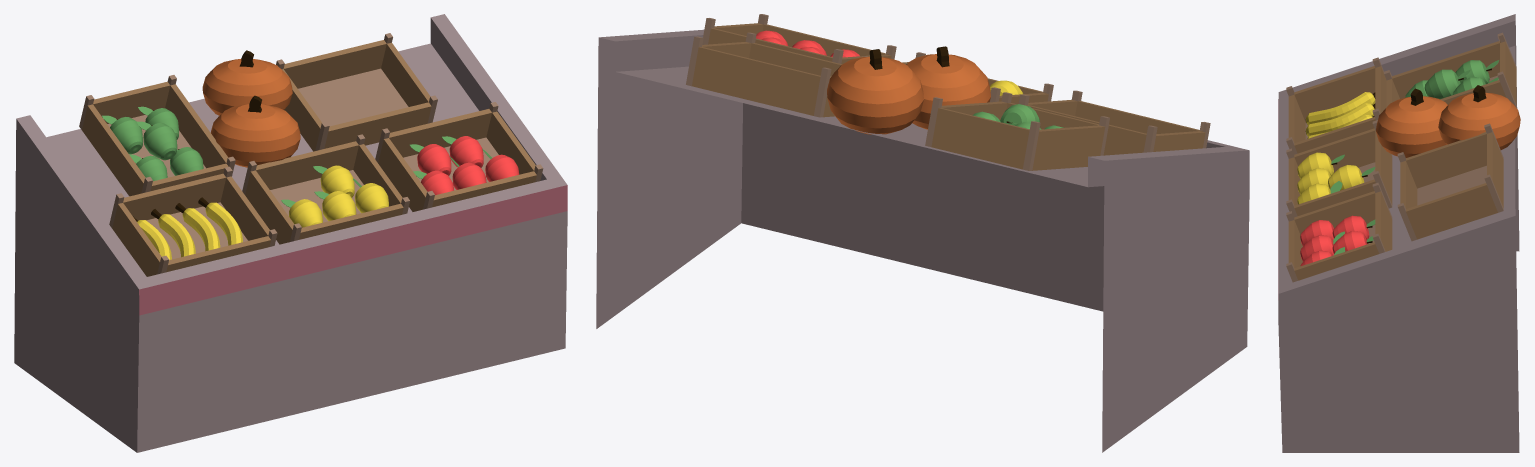
The model's file is Vegetable_shelving.fbx.
3 views of the same model, side by side, from view 1: azimuth 30°, elevation 25°; view 2: azimuth 150°, elevation 25°; view 3: azimuth 270°, elevation 25° (orthographic). The views are drawn at different scales.
Parts seen in each view (by area): view 1: Stall; view 2: Stall; view 3: Stall.
Part boxes in pixels (x1,y1,x2,y2): Stall: [14, 14, 567, 452]; Stall: [596, 14, 1249, 452]; Stall: [1278, 14, 1520, 452].
Size of the model in its own units: 1 by 1.97 by 1.21.
